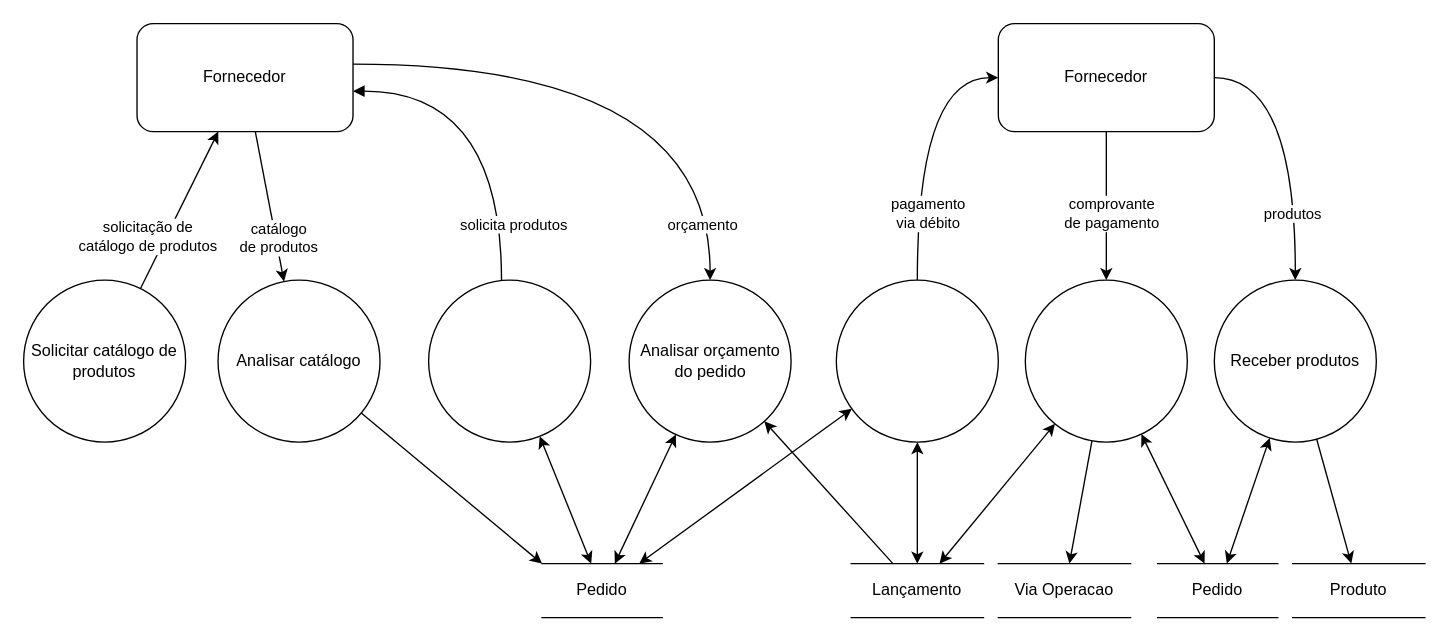
Some shapes in this 1449 by 641 pixel diagram are drawn without their labels. The shapes that lost their labels are listed below. From the top down, each one's box as (x1, y1, x2, y2) in pixels, then its label:
(427, 279, 591, 442): Realizar pedido
(835, 279, 998, 442): Pagar pedido
(1024, 279, 1187, 442): Receber comprovante de pagamento
